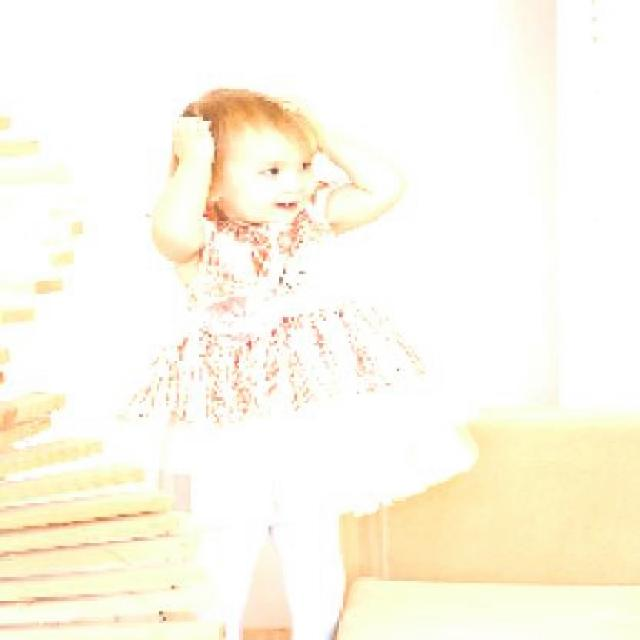child: (111, 82, 483, 638)
